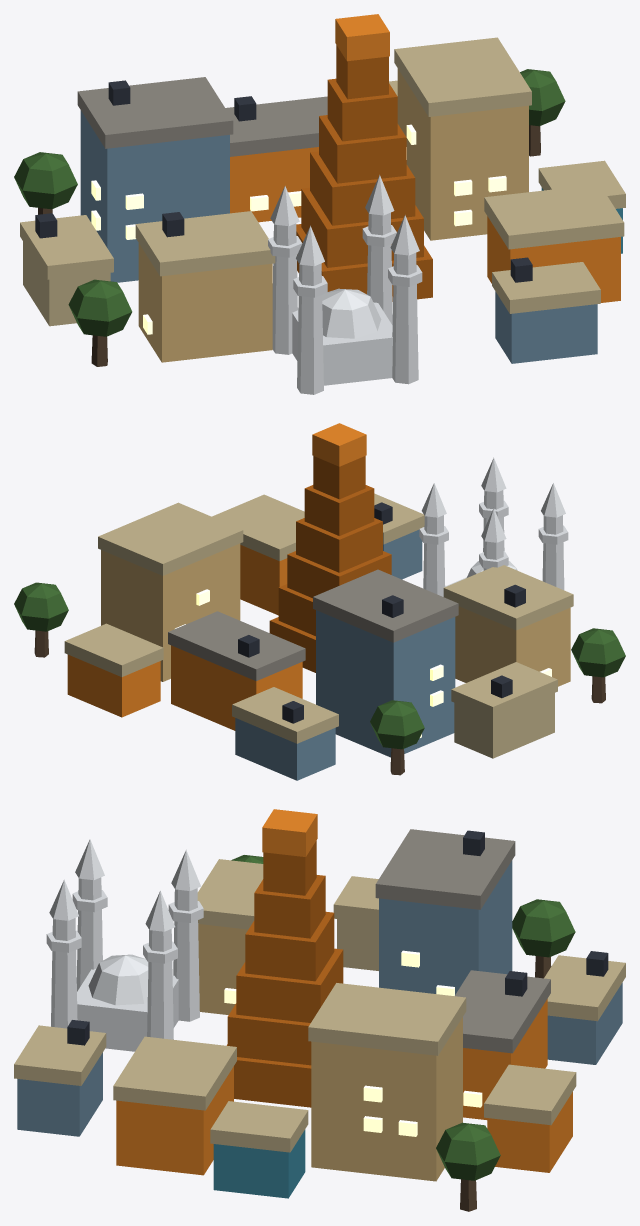
The model's file is overworld-settlement-south-asian-town.glb.
3 renders of one model, top to bottom at view 1: azimuth 30°, elevation 25°; view 2: azimuth 150°, elevation 25°; view 3: azimuth 270°, elevation 25°, orthographic. The views are drawn at different scales.
Visible parts, largest first — view 1: settlement; view 2: settlement; view 3: settlement.
Boxes of the visible parts, left/top/right/bottom form: settlement: left=14, top=14, right=625, bottom=394; settlement: left=14, top=423, right=625, bottom=780; settlement: left=14, top=809, right=625, bottom=1211.
Bounding box in the file's own units: 0.5406 × 0.221 × 0.4734.
